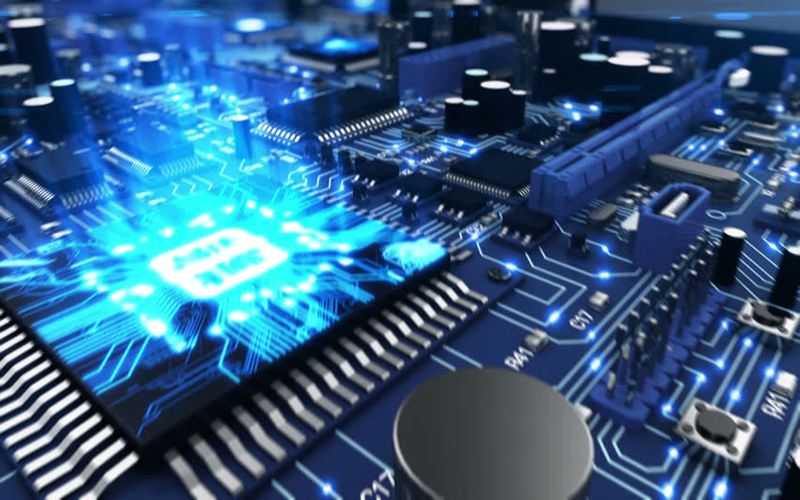Cirtuit-Board: (11, 45, 800, 500)
